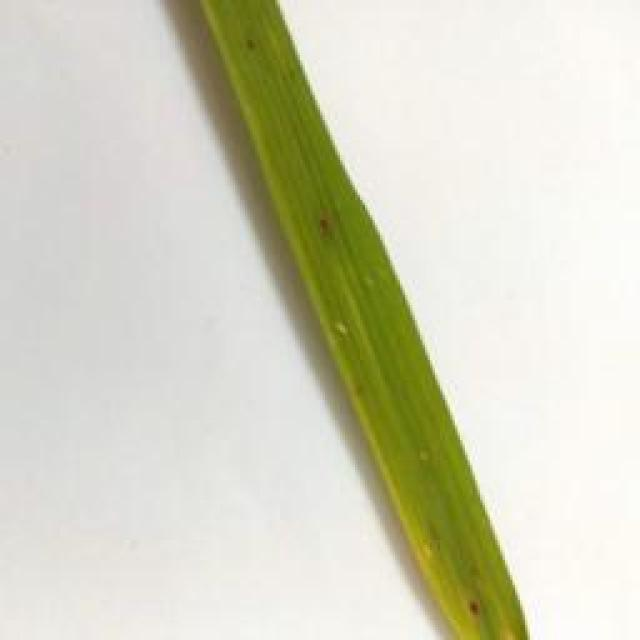Brown_Spot: (310, 207, 344, 244), (236, 28, 267, 61), (471, 596, 489, 622)
